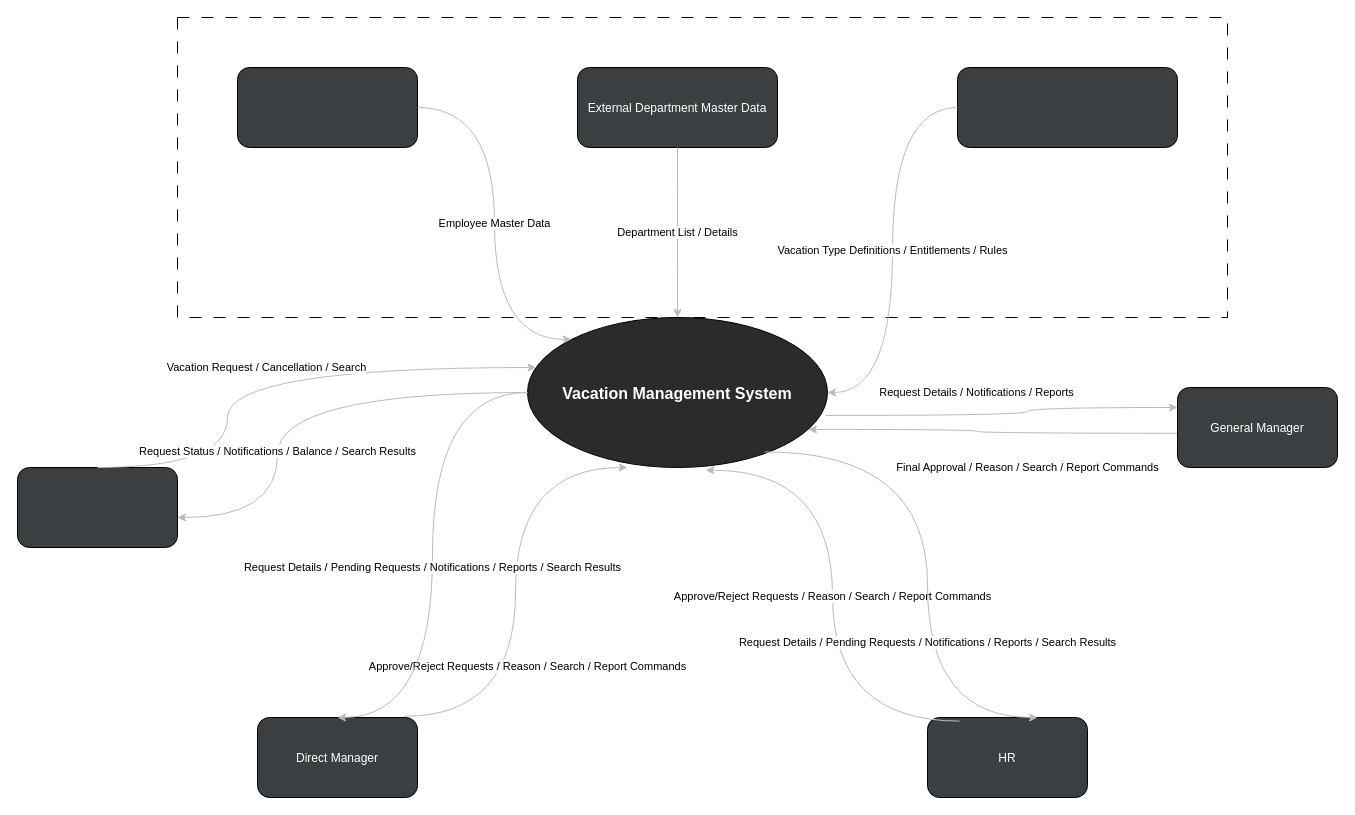
The diagram is 1355 pixels wide and 815 high, and some of its shapes have lost their labels. Each missing label, with the box of its shape:
Employee: (16, 466, 178, 548)
External HR System: (236, 66, 418, 148)
External Vacation Types Master Data: (956, 66, 1178, 148)
